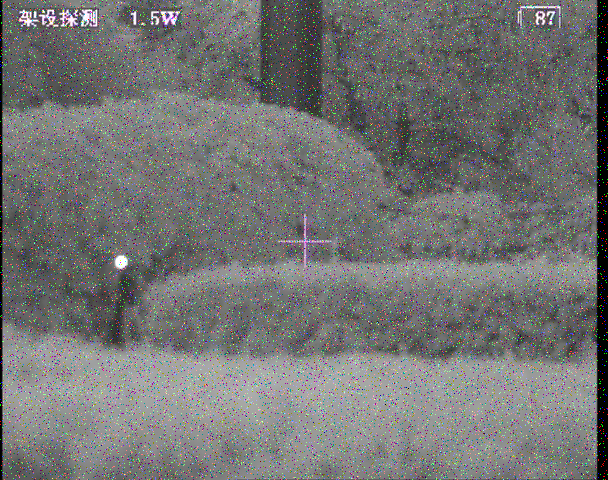my: (113, 254, 129, 270)
